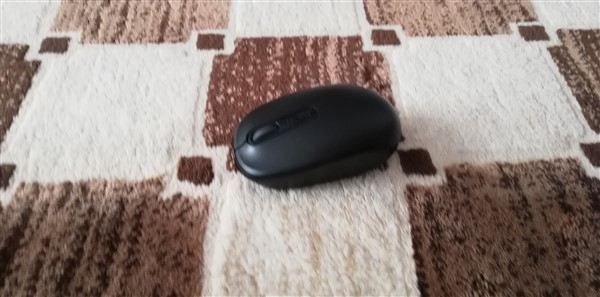mouse: (231, 80, 407, 191)
